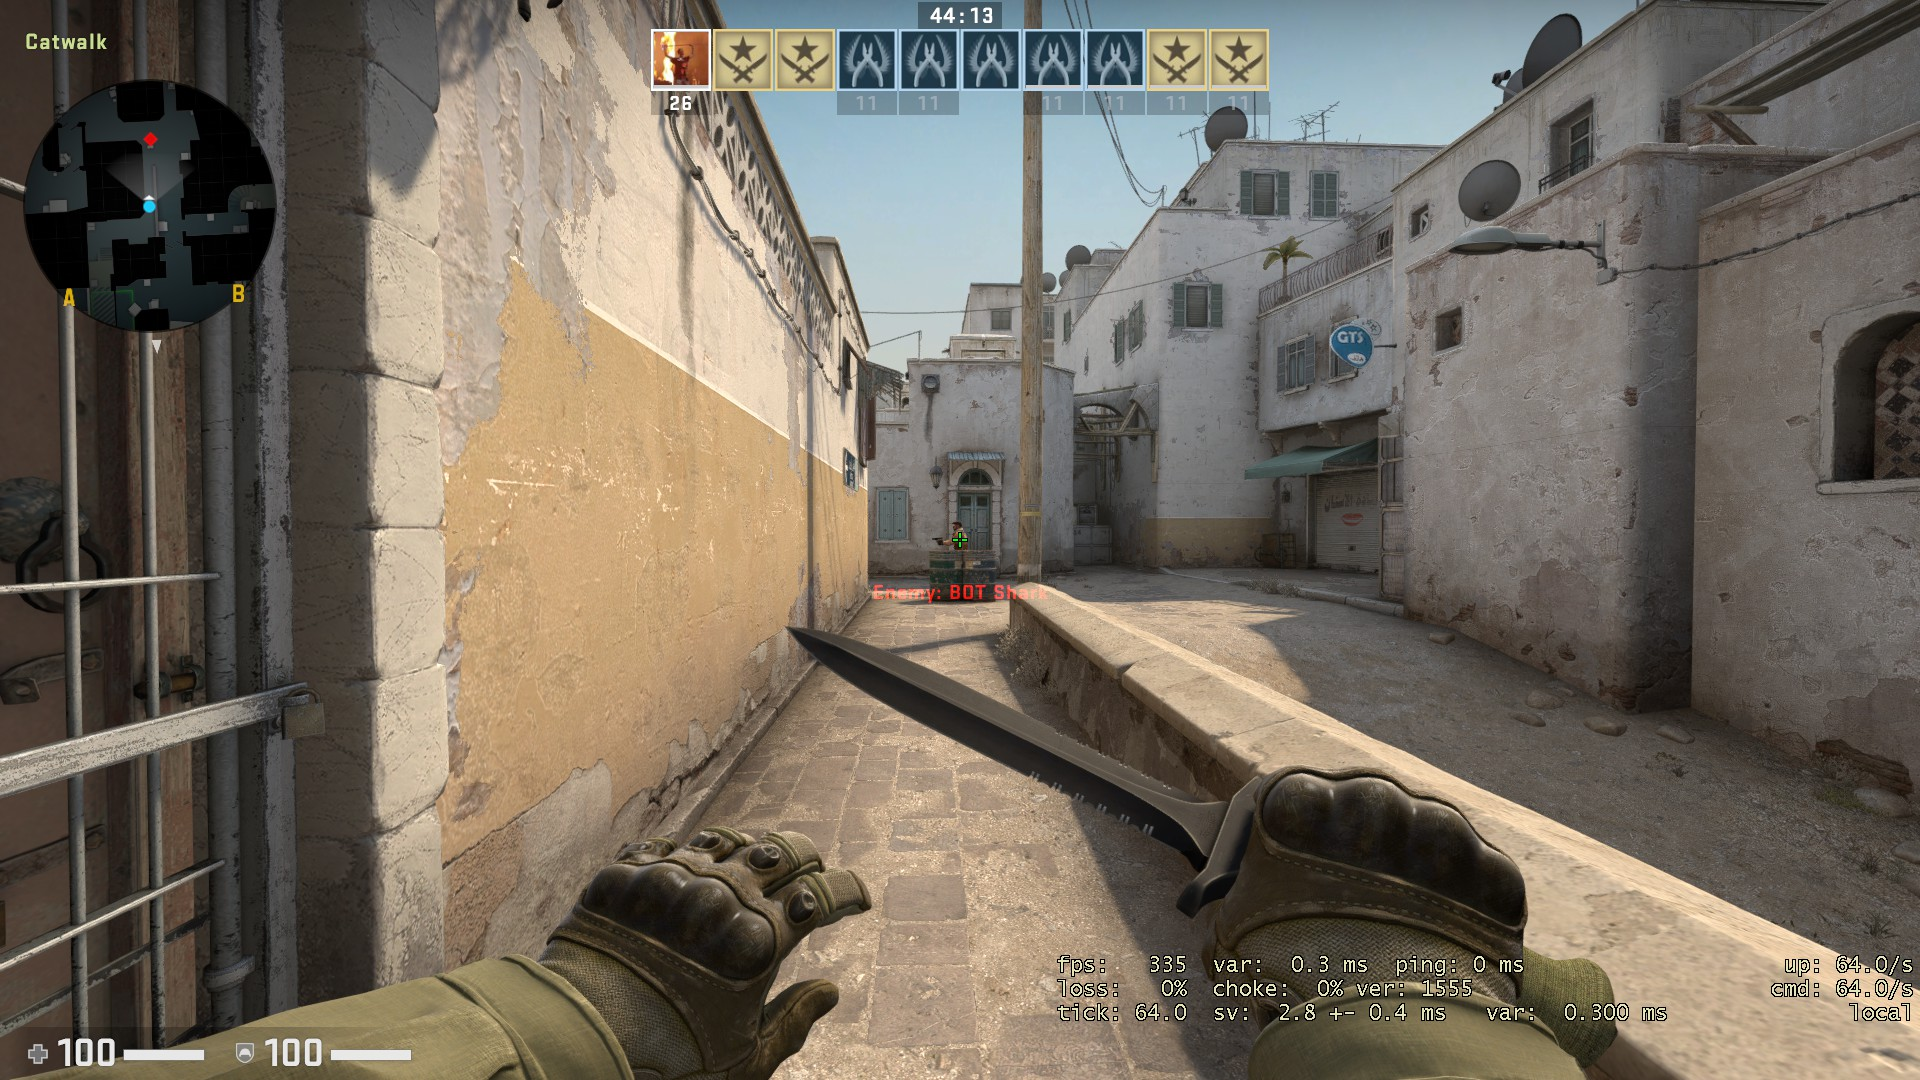player: (929, 516, 972, 552)
